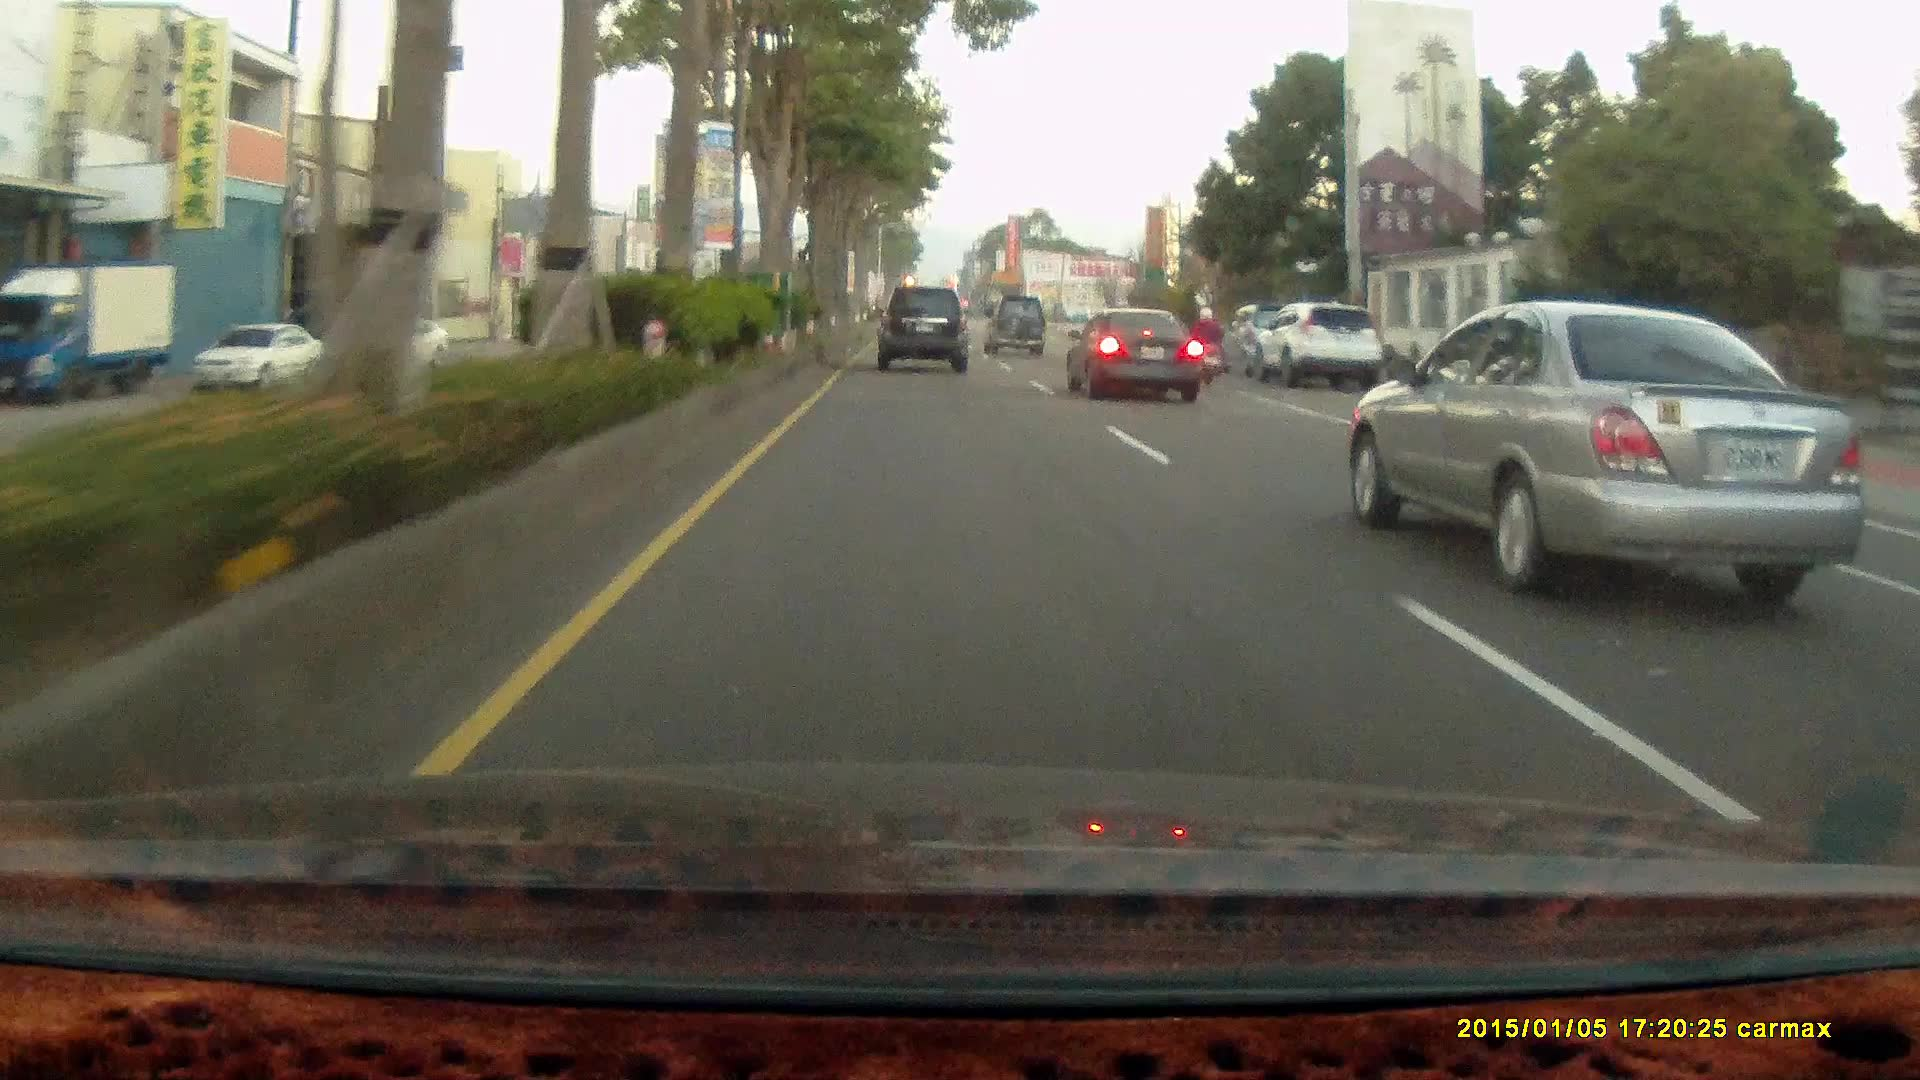rider: (1187, 302, 1224, 382)
vehicle: (1349, 299, 1869, 583), (1, 257, 187, 402), (0, 257, 176, 402), (1067, 305, 1211, 400), (1063, 305, 1204, 401), (1250, 301, 1382, 391), (1262, 305, 1386, 389), (873, 281, 976, 378), (192, 321, 325, 395), (191, 319, 324, 391), (873, 285, 967, 373), (341, 306, 451, 370), (1218, 299, 1305, 373), (984, 291, 1050, 358), (984, 295, 1047, 356)
